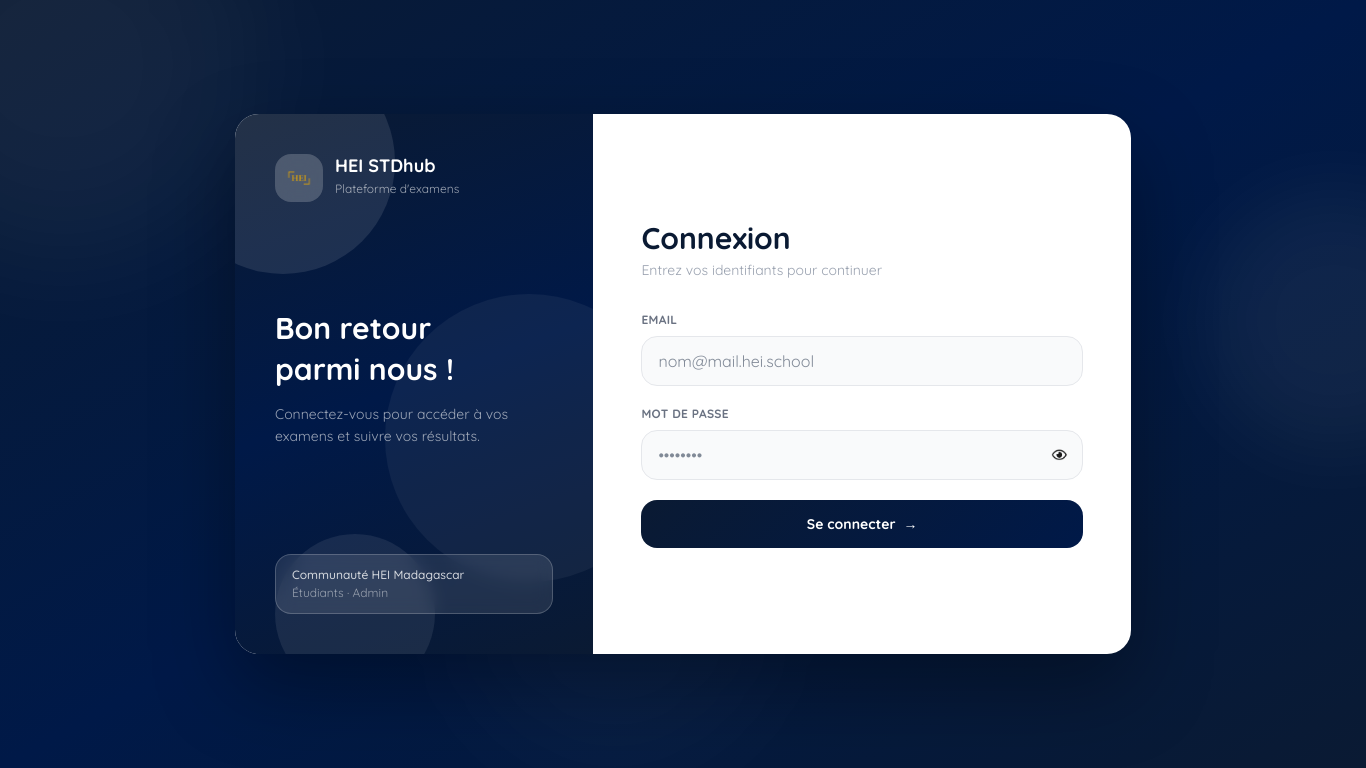
it: Login › bascule la visibilité du mot de passe
Type "secret" into the password field labelled "Mot de passe". click: (862, 455)
box: [641, 430, 1083, 480]
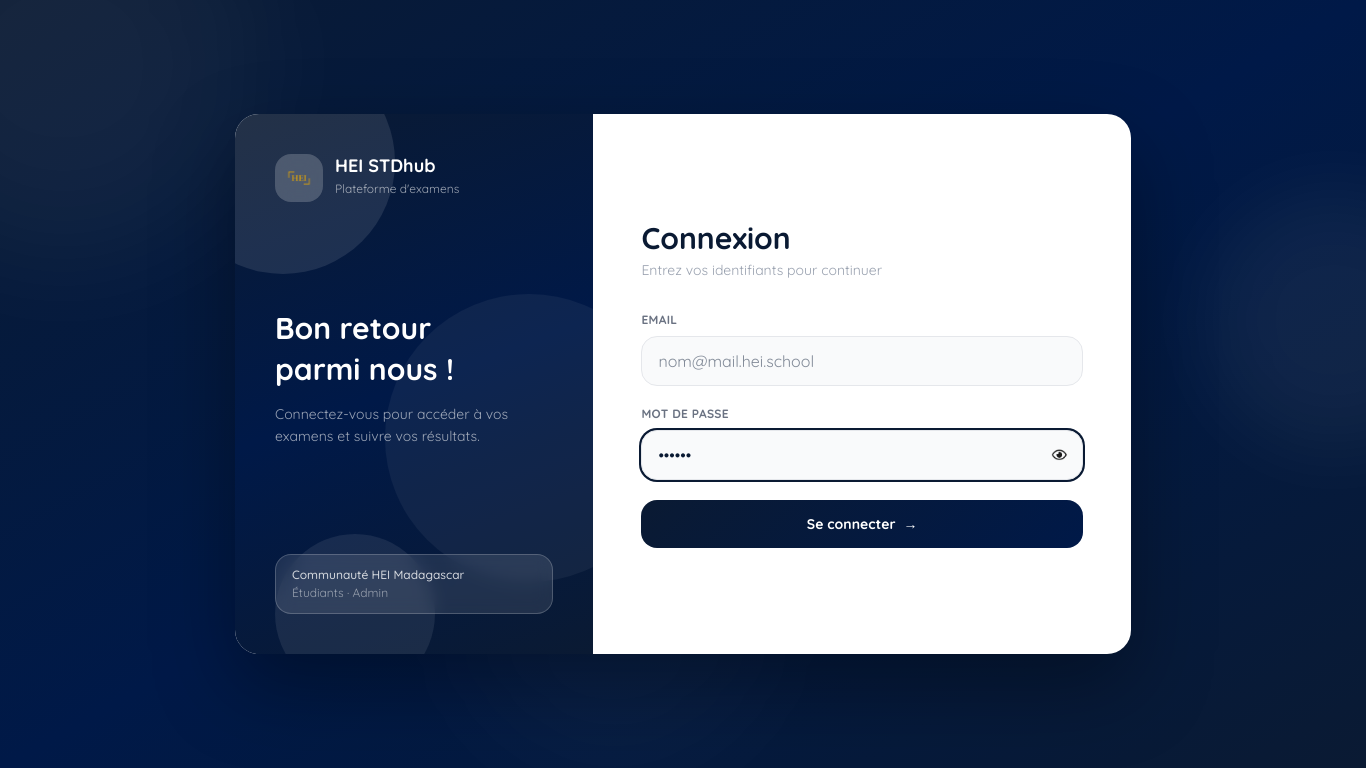
Click the button named "Afficher le mot de passe". click: click(1061, 456)
box: [1051, 449, 1071, 462]
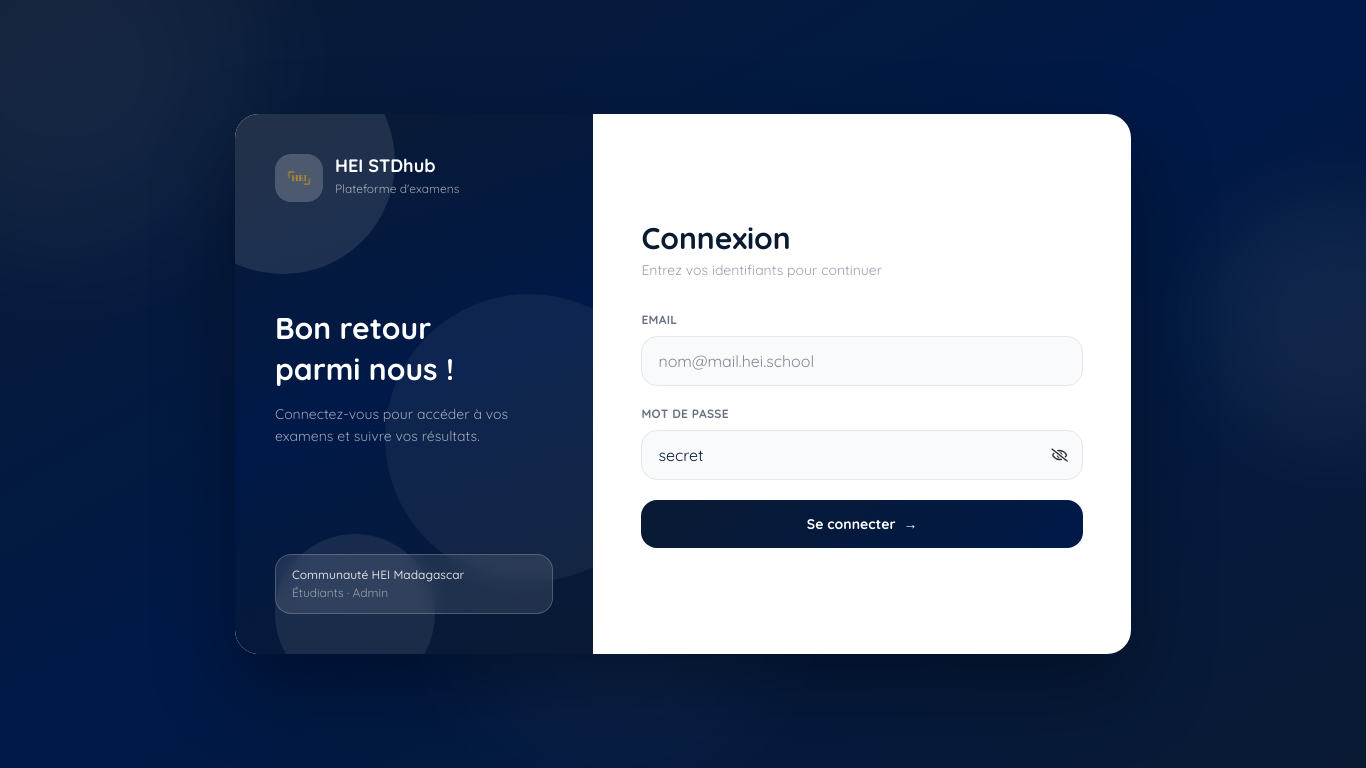
Now the field labelled "Mot de passe" shows its text, box [641, 430, 1083, 480]
Click the button named "Masquer le mot de passe". click: click(1061, 455)
box: [1051, 448, 1071, 462]
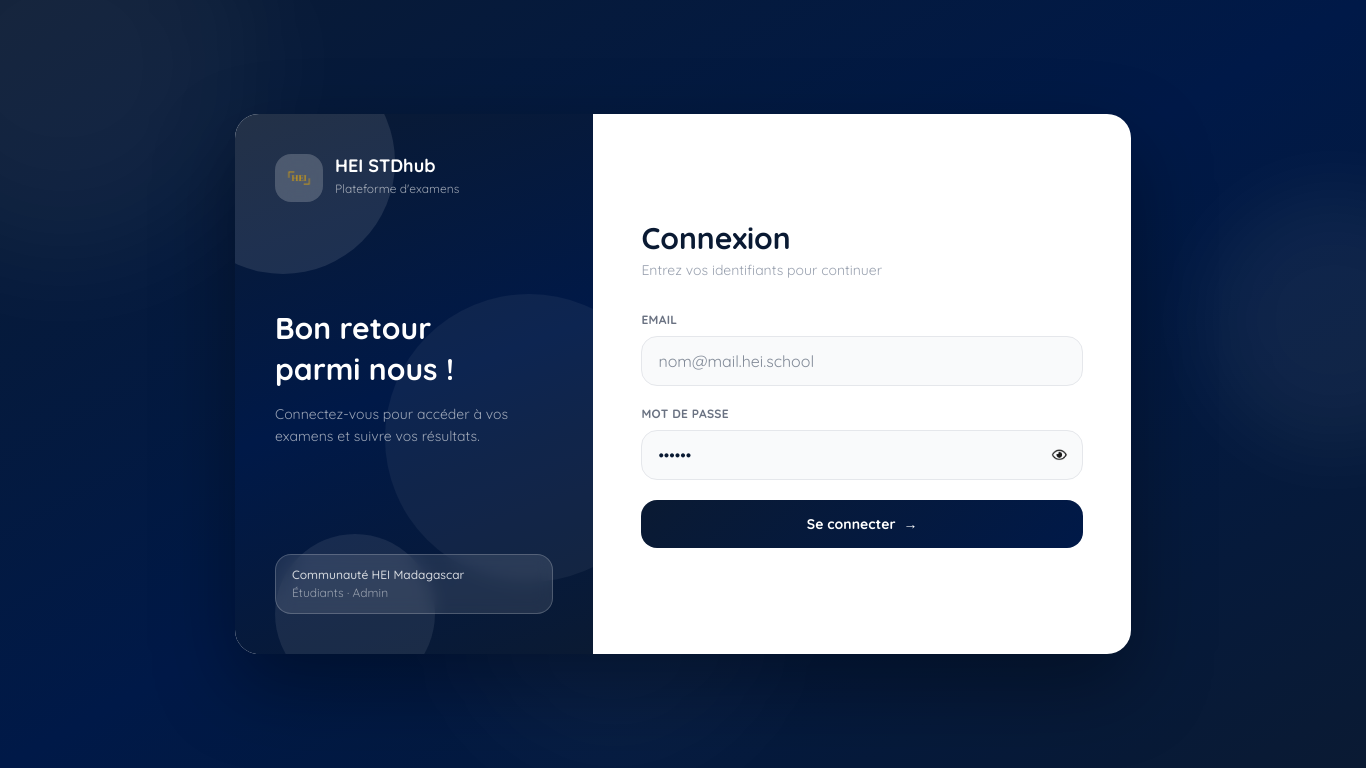
Now the password field labelled "Mot de passe" hides its text, box [641, 430, 1083, 480]
